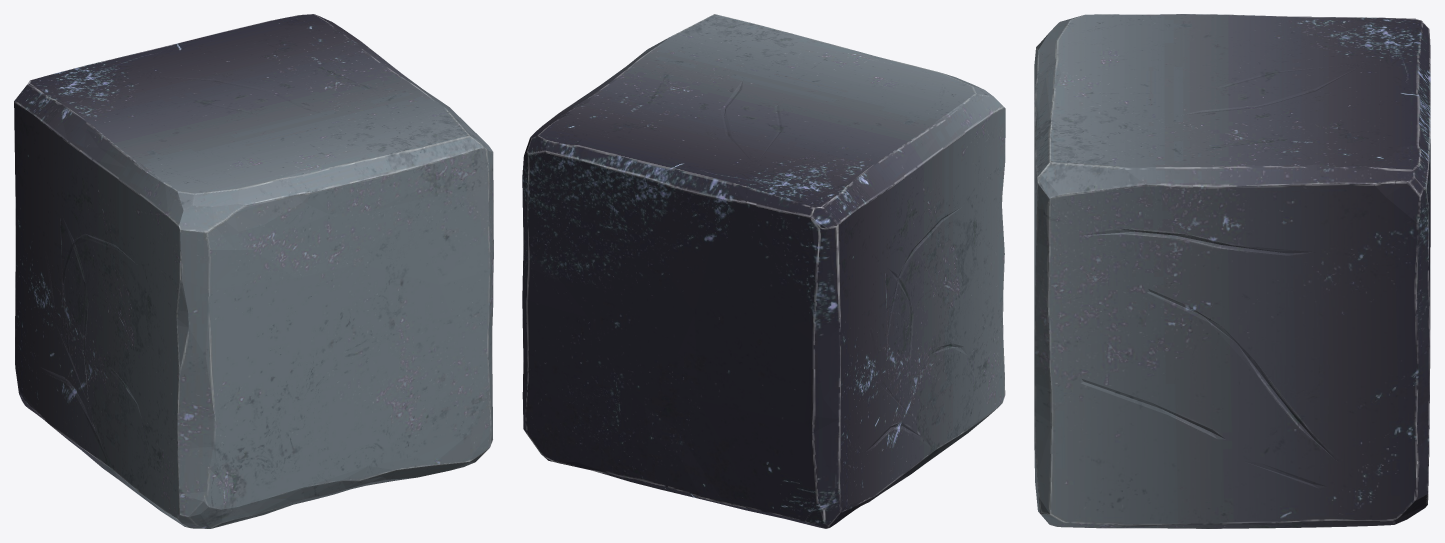
Rendered from rock2.fbx.
The picture shows the model from 3 angles, left to right: view 1: azimuth 30°, elevation 25°; view 2: azimuth 150°, elevation 25°; view 3: azimuth 270°, elevation 25°; orthographic projection. The views are drawn at different scales.
Visible parts, largest first — view 1: Group10753; view 2: Group10753; view 3: Group10753.
Part boxes in pixels (box(x1,y1,x2,y2)): Group10753: box(14, 14, 493, 528); Group10753: box(522, 14, 1005, 528); Group10753: box(1034, 14, 1430, 528).
Size of the model in its own units: 2 by 2 by 2.
